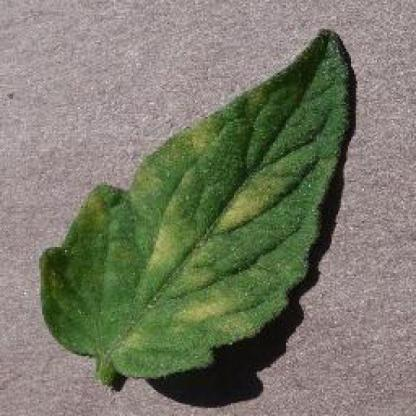Tomato_Leaf_Mold: (34, 28, 358, 376)
